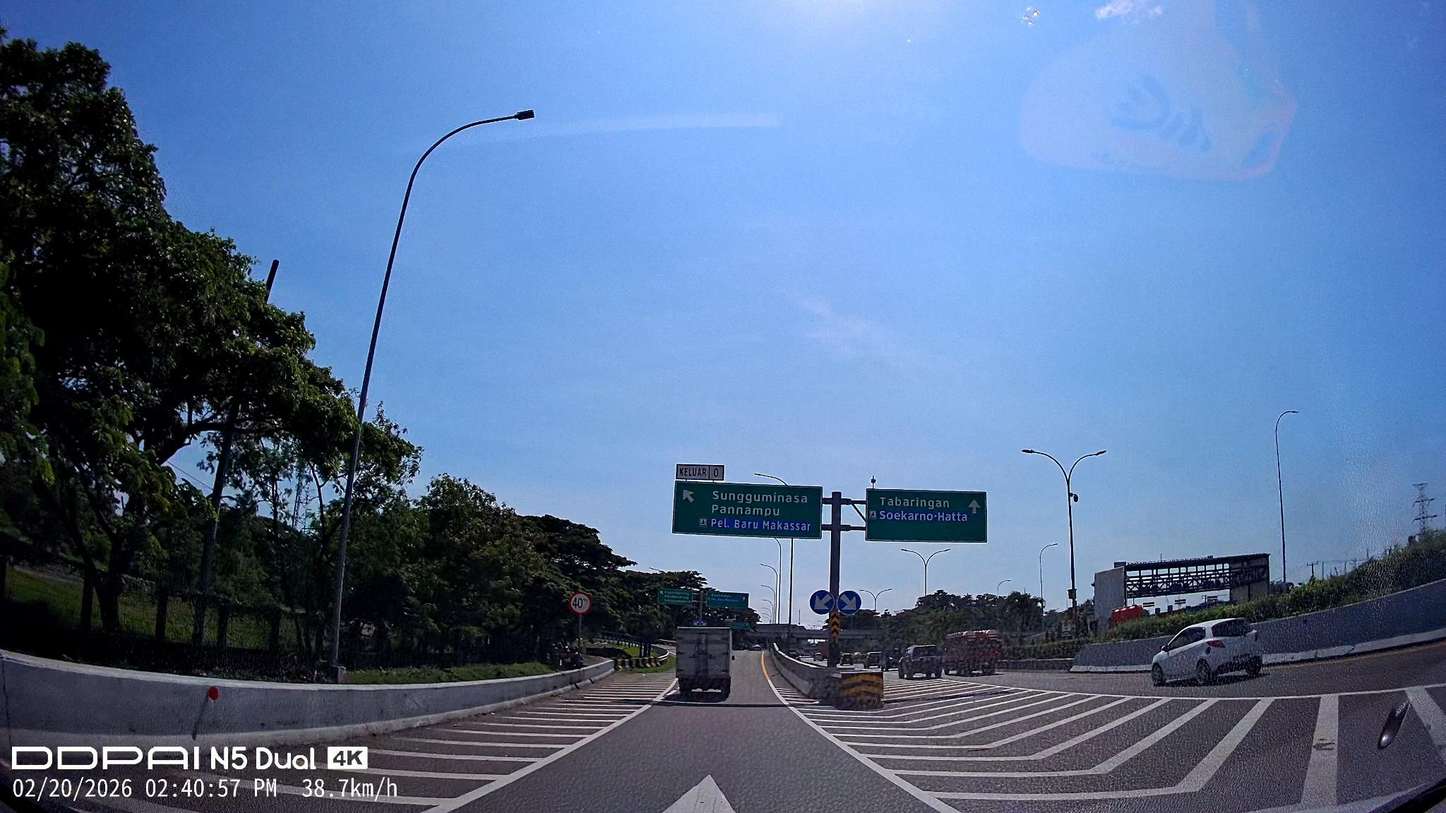rambu_teks: (674, 481, 823, 539), (865, 490, 987, 544)
